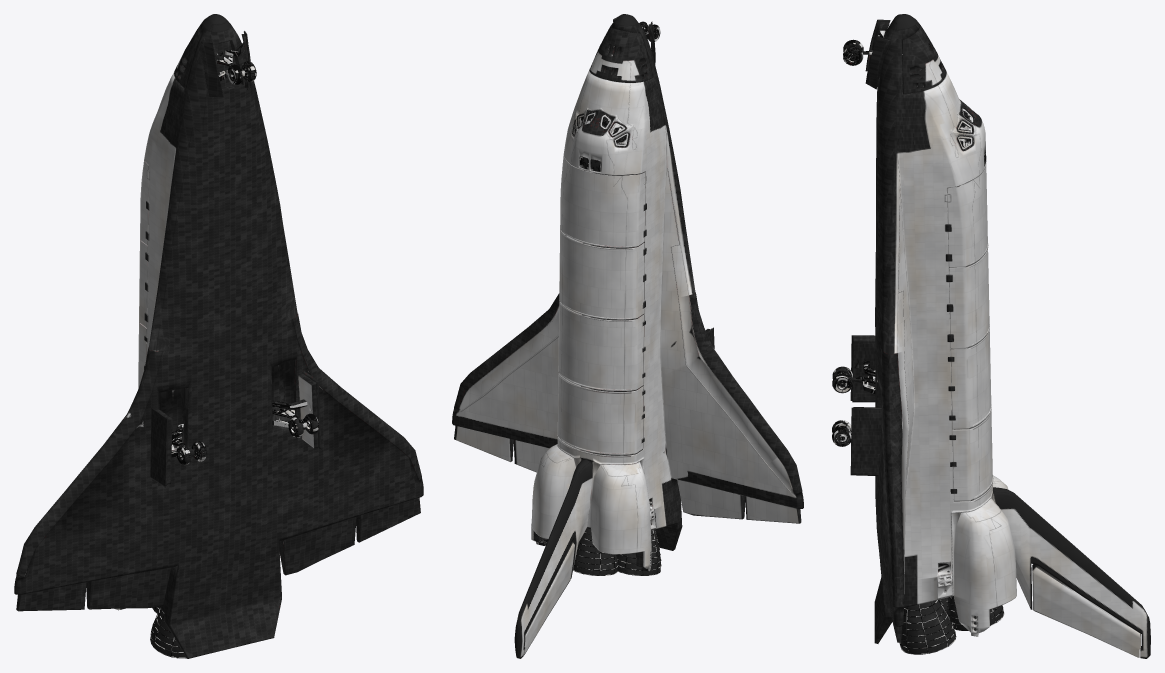
File: p10_nave.obj
The picture shows the model from 3 angles, left to right: view 1: azimuth 30°, elevation 25°; view 2: azimuth 150°, elevation 25°; view 3: azimuth 270°, elevation 25°; orthographic projection. The views are drawn at different scales.
Parts seen in each view (by area): view 1: p10_nave; view 2: p10_nave; view 3: p10_nave.
Part boxes in pixels (x1,y1,x2,y2): p10_nave: (14, 14, 423, 658); p10_nave: (452, 14, 803, 658); p10_nave: (832, 14, 1150, 658).
Bounding box in the file's own units: 17.92 × 27.62 × 12.42.
1 material, 1 textured.
